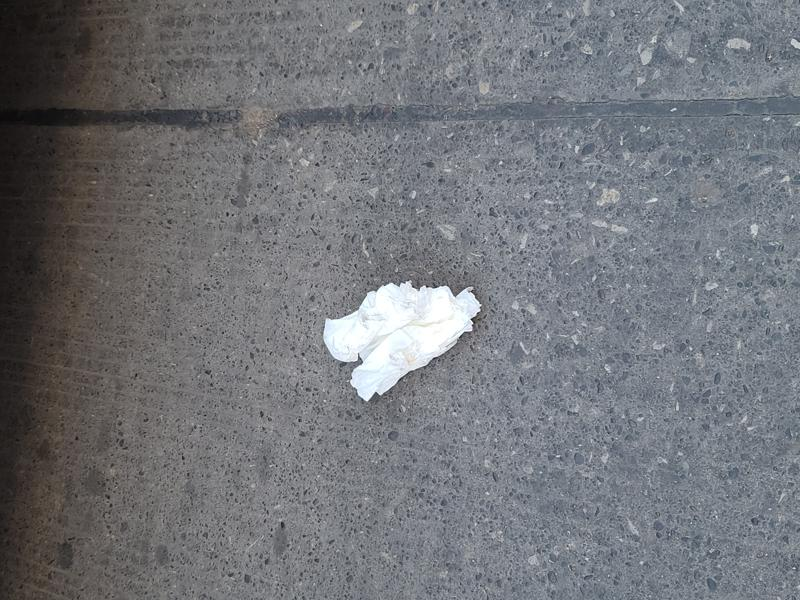papel: (321, 283, 482, 403)
